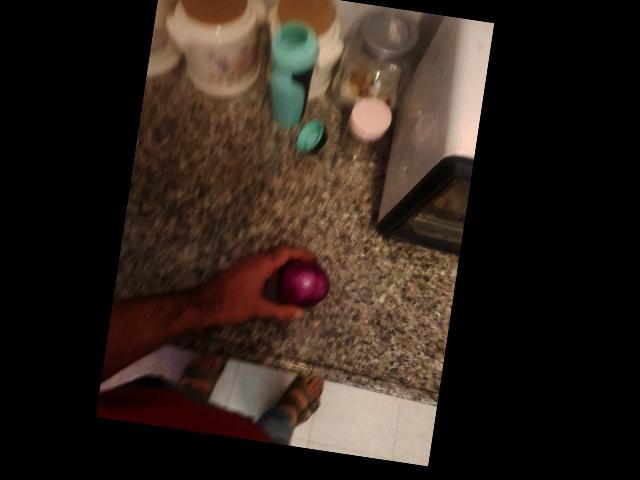onion: (394, 138, 465, 205)
